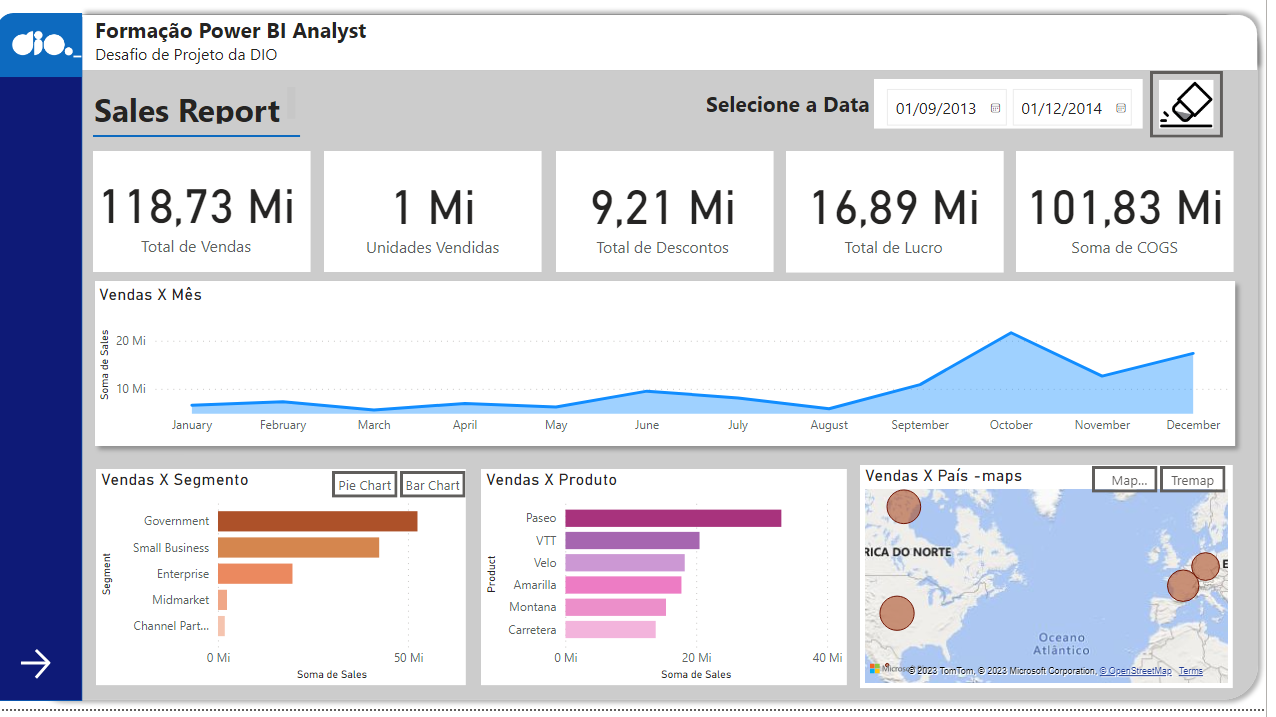

The page's visual inventory and layout, read from the dashboard file:
{"tool":"powerbi","page":{"name":"Página 1","canvas":[1280,720],"ordinal":0},"visuals":[{"type":"image","box":[1167.5,77,65.1,66.1],"z":0,"group":"g3"},{"type":"shape","box":[97.2,157.3,219.7,122.5],"z":0,"group":"g2"},{"type":"card","fields":{"Values":["Sum(financials. Sales)"]},"box":[85.9,160.9,229.9,113.5],"z":0,"group":"g6"},{"type":"group","id":"g1","title":"cartões3","box":[96.7,473.7,1154.4,231.7],"z":0},{"type":"shape","box":[96.7,473.7,382.8,231.7],"z":0,"group":"g1"},{"type":"shape","box":[21.8,10.4,1258.7,709.6],"z":1000},{"type":"slicer","fields":{"Values":["financials.Date"]},"box":[884.6,85.3,271.4,49.7],"z":1000,"group":"g3"},{"type":"card","fields":{"Values":["Sum(financials.Units Sold)"]},"box":[330.8,157.1,216.9,122.7],"z":1000,"group":"g6"},{"type":"shape","box":[1028.3,157.3,219.7,122.5],"z":1000,"group":"g2"},{"type":"shape","box":[482.5,473.7,382.8,231.7],"z":1000,"group":"g1"},{"type":"map","title":" Vendas X País -maps","fields":{"Size":["Sum(financials. Sales)"],"Category":["financials.Country"]},"box":[870.4,473.7,376,225],"z":1000,"group":"g5"},{"type":"shape","title":"cabeçalho","box":[75.6,10.8,1204.4,73.6],"z":2000},{"type":"textbox","box":[710.6,89.8,185.5,43.4],"z":2000,"group":"g3"},{"type":"card","fields":{"Values":["Sum(financials.Discounts)"]},"box":[563.5,157.1,216.9,122.7],"z":2000,"group":"g6"},{"type":"shape","box":[795.8,157.1,219.7,122.8],"z":2000,"group":"g2"},{"type":"shape","box":[868.2,473.7,382.8,231.7],"z":2000,"group":"g1"},{"type":"actionButton","title":"Tremap","box":[1173.4,474.7,66.1,26.6],"z":2500,"group":"g5"},{"type":"card","fields":{"Values":["Sum(financials.Profit)"]},"box":[796.1,157.1,216.9,122.7],"z":3000,"group":"g6"},{"type":"shape","box":[563.7,157.3,219.7,122.5],"z":3000,"group":"g2"},{"type":"shape","box":[89.3,279.8,1168.1,184.5],"z":3000},{"type":"actionButton","title":"map","box":[1104.3,474.7,66.1,26.6],"z":3000,"group":"g5"},{"type":"clusteredBarChart","title":"Vendas X  Segmento ","fields":{"Y":["Sum(financials. Sales)"],"Category":["financials.Segment"]},"box":[100.1,478,373,217.9],"z":3000,"group":"g4"},{"type":"textbox","title":"formação","box":[93.3,15.6,309.1,60.3],"z":4000},{"type":"shape","title":"fundo-logo","box":[0,17.7,86.4,64.8],"z":4000,"group":"g7"},{"type":"card","fields":{"Values":["Sum(financials.COGS)"]},"box":[1028.8,157.1,216.9,122.7],"z":4000,"group":"g6"},{"type":"shape","box":[330.5,157.3,219.7,122.5],"z":4000,"group":"g2"},{"type":"shape","title":"lateral","box":[0,22.6,86.4,690.1],"z":5000},{"type":"shape","title":"traço","box":[97.2,128.6,209.1,28.5],"z":6000},{"type":"areaChart","title":"Vendas X Mês","fields":{"Category":["financials.Month"],"Y":["Sum(financials. Sales)"]},"box":[98.2,291.5,1150.4,160],"z":7000},{"type":"group","id":"g2","title":"Cartões2","box":[97.2,157.1,1151.4,122.7],"z":8000},{"type":"textbox","title":"titulo-sales","box":[93.1,87.8,213.1,47.5],"z":9000},{"type":"clusteredBarChart","title":"Vendas X Produto","fields":{"Y":["Sum(financials. Sales)"],"Category":["financials.Product"]},"box":[488.5,477.7,369.1,218.1],"z":10000},{"type":"group","id":"g3","title":"Botão1","box":[710.6,77,522.1,66.1],"z":11000},{"type":"group","id":"g4","title":"Vendas por segmento","box":[100.1,478,373.6,217.9],"z":12000},{"type":"group","id":"g5","title":"vendas por país","box":[870.4,473.7,376,225],"z":13000},{"type":"group","id":"g6","title":"Cartões1","box":[85.9,157.1,1159.8,122.7],"z":14000},{"type":"group","id":"g7","title":"logo","box":[0,17.7,89.3,64.8],"z":15000},{"type":"actionButton","title":"pie chart","box":[337.5,479.6,66.1,26.6],"z":16000},{"type":"image","title":"logo","box":[9.8,22.6,79.5,53],"z":17000,"group":"g7"},{"type":"actionButton","title":" bar chart","box":[406.6,479.6,66.1,26.6],"z":17000},{"type":"actionButton","box":[18.4,654.9,49.3,40.1],"z":18000},{"type":"actionButton","box":[1163.4,76.7,73.6,67.3],"z":18001}]}

Visuals, with their boxes in screenshot pixels (x1, y1, x2, y2), scaled from the page's 1280x720 canvas onto the 1276x717 screenshot:
image: crop(1164, 77, 1229, 143)
shape: crop(97, 157, 316, 279)
card - Sum(financials. Sales): crop(86, 160, 315, 273)
"cartões3" group: crop(96, 472, 1247, 702)
shape: crop(96, 472, 478, 702)
shape: crop(22, 10, 1275, 716)
slicer - financials.Date: crop(882, 85, 1152, 134)
card - Sum(financials.Units Sold): crop(330, 156, 546, 279)
shape: crop(1025, 157, 1244, 279)
shape: crop(481, 472, 863, 702)
" Vendas X País -maps" map: crop(868, 472, 1243, 696)
"cabeçalho" shape: crop(75, 11, 1275, 84)
textbox: crop(708, 89, 893, 133)
card - Sum(financials.Discounts): crop(562, 156, 778, 279)
shape: crop(793, 156, 1012, 279)
shape: crop(865, 472, 1247, 702)
"Tremap" actionButton: crop(1170, 473, 1236, 499)
card - Sum(financials.Profit): crop(794, 156, 1010, 279)
shape: crop(562, 157, 781, 279)
shape: crop(89, 279, 1253, 462)
"map" actionButton: crop(1101, 473, 1167, 499)
"Vendas X  Segmento " clusteredBarChart: crop(100, 476, 472, 693)
"formação" textbox: crop(93, 16, 401, 76)
"fundo-logo" shape: crop(0, 18, 86, 82)
card - Sum(financials.COGS): crop(1026, 156, 1242, 279)
shape: crop(329, 157, 548, 279)
"lateral" shape: crop(0, 23, 86, 710)
"traço" shape: crop(97, 128, 305, 156)
"Vendas X Mês" areaChart: crop(98, 290, 1245, 450)
"Cartões2" group: crop(97, 156, 1245, 279)
"titulo-sales" textbox: crop(93, 87, 305, 135)
"Vendas X Produto" clusteredBarChart: crop(487, 476, 855, 693)
"Botão1" group: crop(708, 77, 1229, 143)
"Vendas por segmento" group: crop(100, 476, 472, 693)
"vendas por país" group: crop(868, 472, 1243, 696)
"Cartões1" group: crop(86, 156, 1242, 279)
"logo" group: crop(0, 18, 89, 82)
"pie chart" actionButton: crop(336, 478, 402, 504)
"logo" image: crop(10, 23, 89, 75)
" bar chart" actionButton: crop(405, 478, 471, 504)
actionButton: crop(18, 652, 67, 692)
actionButton: crop(1160, 76, 1233, 143)
